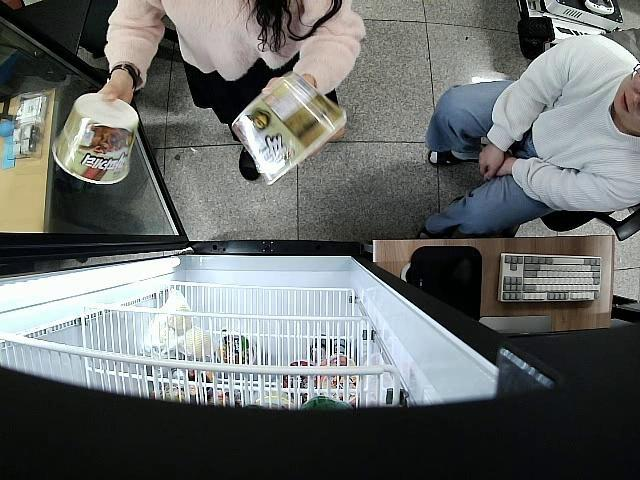03_chapagetti_L: (230, 73, 347, 184), (50, 93, 140, 186)
